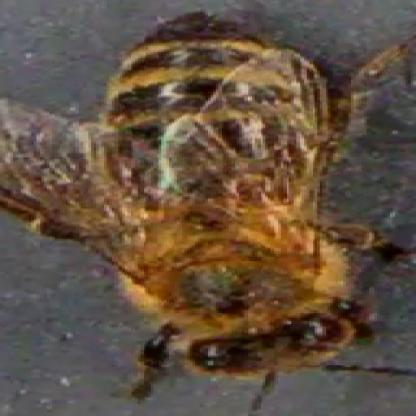bee: (69, 23, 378, 370)
